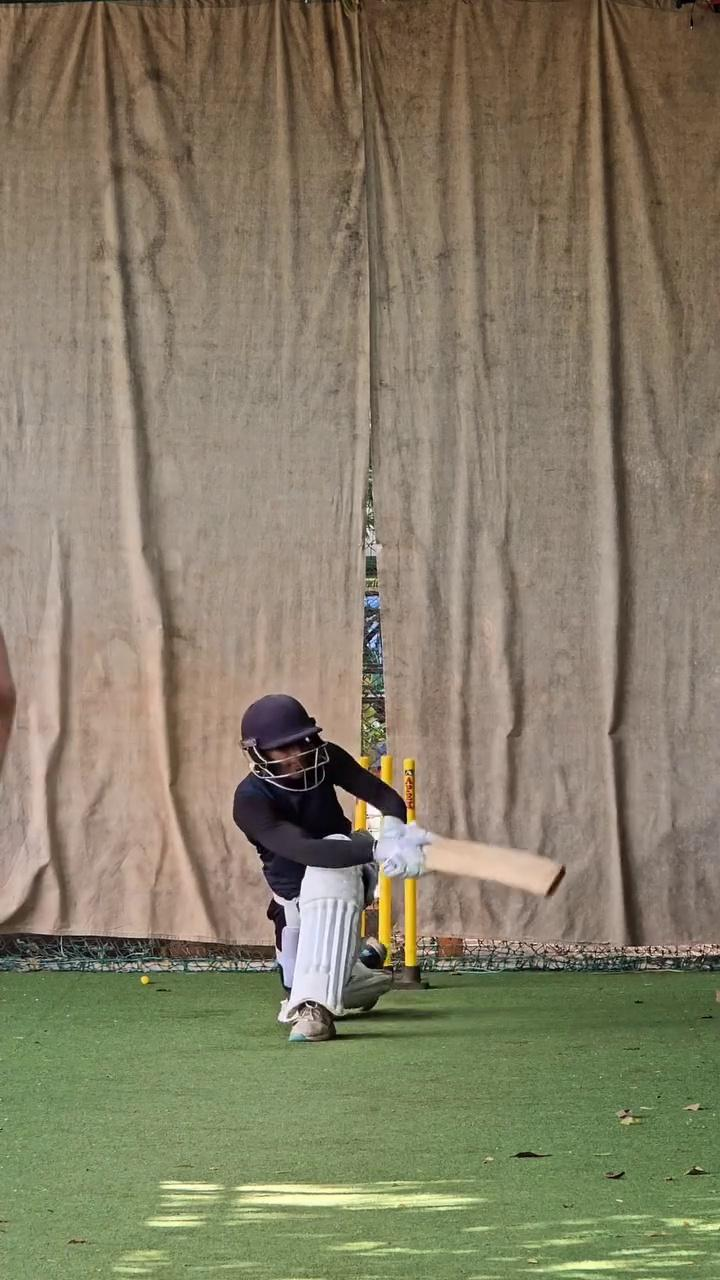bat: (423, 834, 572, 902)
